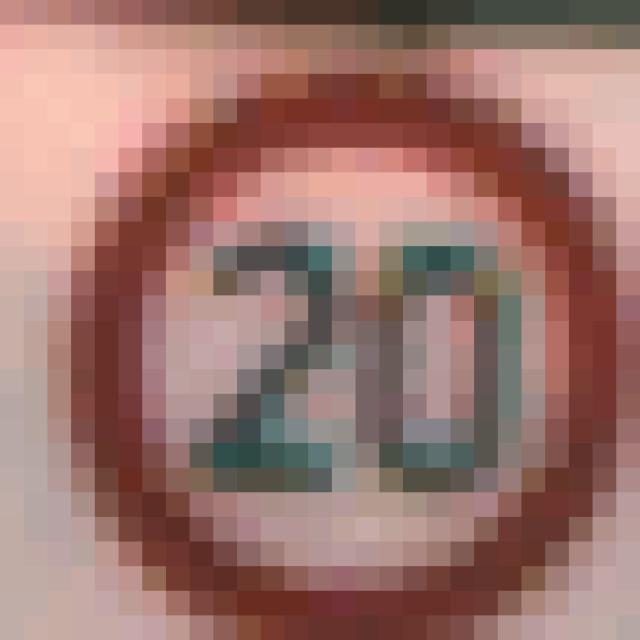forb_speed_over_20: (23, 24, 640, 615)
